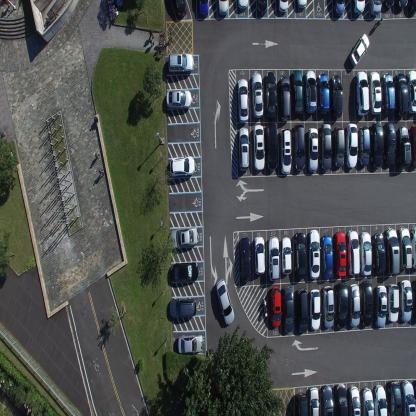car: (214, 277, 235, 325), (384, 227, 401, 276), (348, 31, 370, 67), (265, 120, 279, 172), (367, 70, 382, 116), (396, 124, 412, 166), (281, 285, 295, 333), (335, 281, 349, 329), (170, 225, 198, 249), (308, 229, 321, 280), (394, 73, 409, 117), (355, 70, 369, 116), (170, 260, 199, 282), (264, 71, 277, 120), (279, 127, 292, 176), (319, 123, 332, 172), (372, 232, 387, 274), (252, 124, 265, 172), (381, 72, 395, 116), (398, 226, 412, 270), (373, 284, 387, 328), (251, 72, 264, 119), (267, 235, 280, 282), (347, 229, 360, 276), (360, 280, 373, 327), (333, 230, 346, 276), (359, 230, 372, 276), (294, 231, 306, 280), (304, 69, 317, 114), (370, 122, 383, 167), (399, 278, 412, 323), (293, 124, 305, 172), (384, 120, 396, 168), (400, 379, 416, 415), (317, 72, 330, 116), (330, 74, 343, 118), (332, 125, 345, 169), (322, 285, 335, 329), (177, 333, 203, 355), (169, 155, 195, 177), (296, 287, 308, 334), (238, 126, 250, 172), (321, 234, 333, 280), (278, 75, 290, 120), (167, 52, 194, 72), (237, 78, 249, 122), (166, 89, 192, 109), (169, 298, 196, 317), (307, 127, 318, 173), (240, 236, 251, 282), (309, 288, 321, 330), (292, 70, 303, 115), (388, 380, 402, 415), (349, 284, 360, 328), (387, 282, 399, 322), (406, 69, 416, 116), (270, 285, 281, 327), (334, 383, 348, 415), (373, 383, 387, 415), (254, 236, 265, 276), (281, 236, 292, 275), (321, 383, 334, 415), (361, 386, 374, 416), (348, 386, 360, 416), (408, 124, 416, 168), (309, 386, 320, 416), (295, 393, 308, 415), (172, 0, 186, 20), (368, 0, 382, 17), (332, 0, 345, 18), (410, 226, 415, 272), (351, 0, 365, 15), (198, 0, 208, 18), (277, 0, 289, 15), (218, 0, 229, 16), (256, 0, 267, 16), (412, 280, 416, 322), (396, 0, 409, 11), (238, 0, 249, 12), (384, 0, 396, 11), (409, 0, 416, 16), (296, 0, 307, 8)
